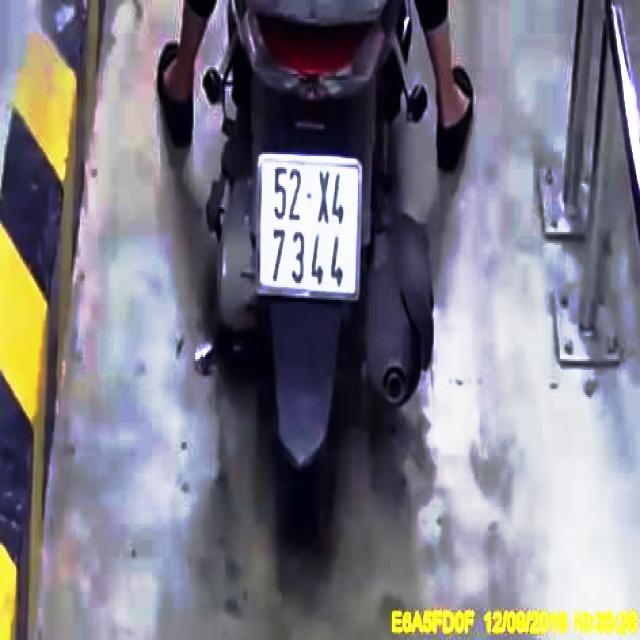license_plate: (257, 158, 364, 306)
